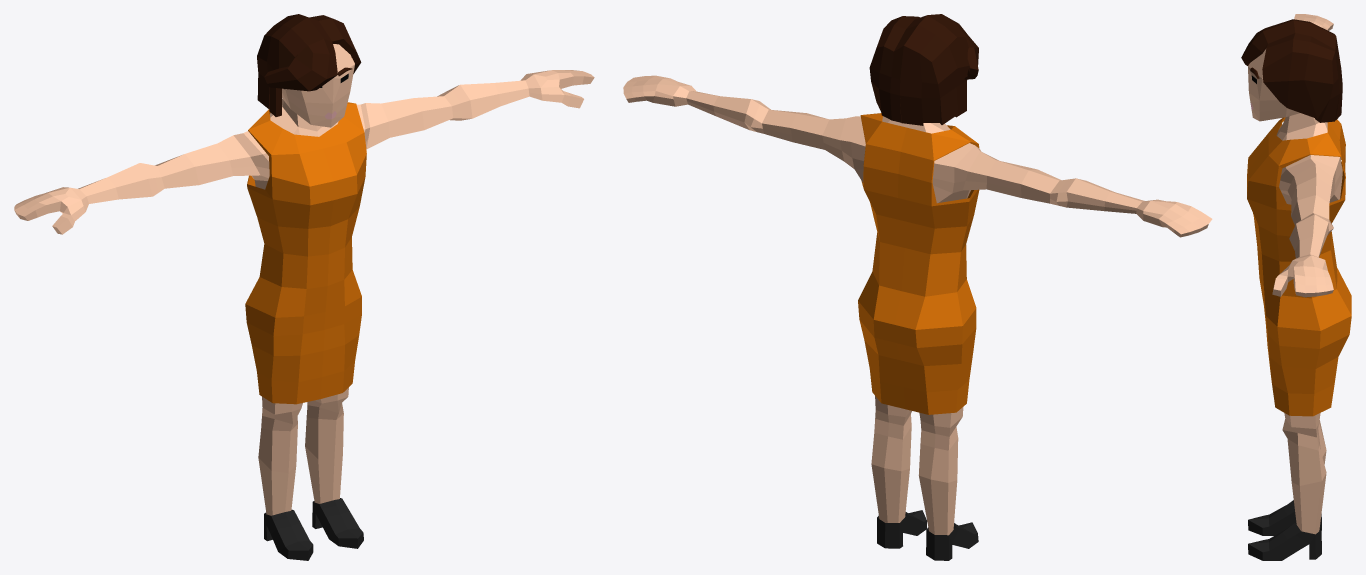
File: NPC_W_Naranja_Escenario2_PeloCorto.fbx
3 renders of one model, left to right at view 1: azimuth 30°, elevation 25°; view 2: azimuth 150°, elevation 25°; view 3: azimuth 270°, elevation 25°, orthographic.
Visible parts, largest first — view 1: Vestido; view 2: Vestido; view 3: Vestido.
Boxes of the visible parts, x1=… form: Vestido: x1=14, y1=14, x2=594, y2=560; Vestido: x1=623, y1=14, x2=1212, y2=560; Vestido: x1=1241, y1=14, x2=1351, y2=560.
Size of the model in its own units: 215 by 187 by 35.99.
